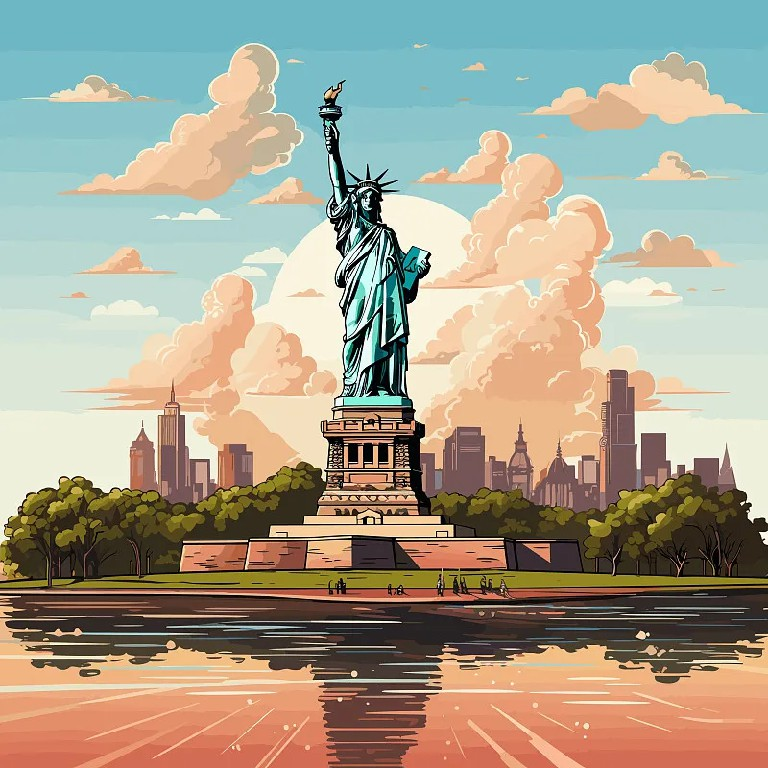SL: (316, 79, 431, 518)
